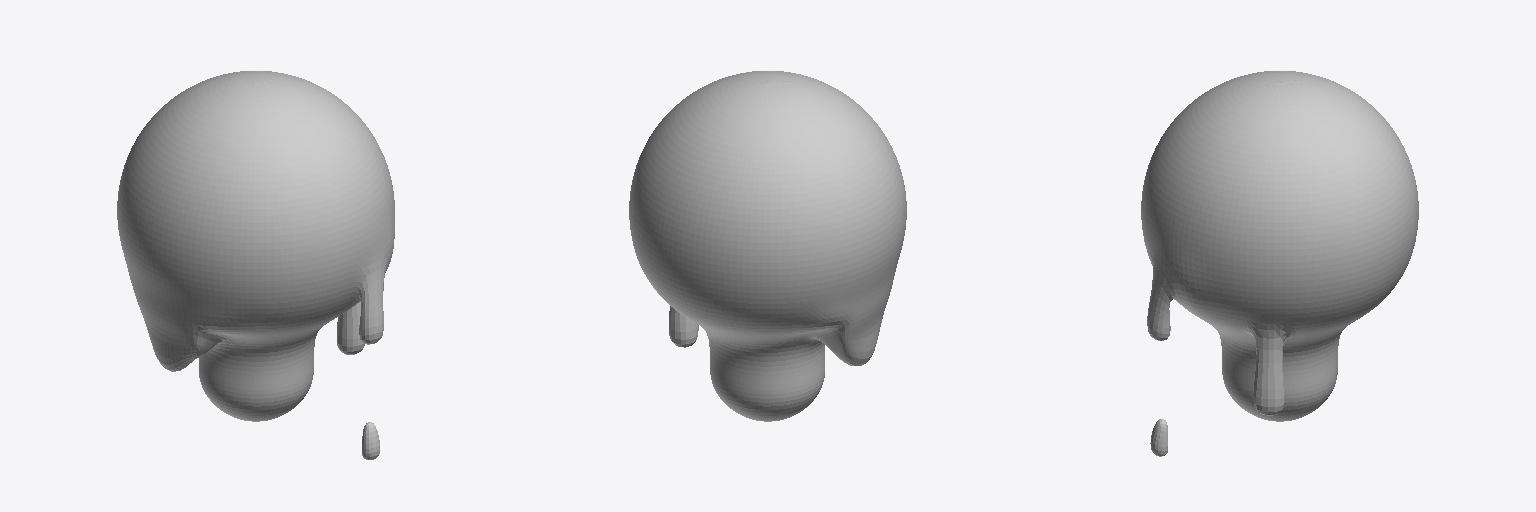
Rendered from PM_Baked_Idea_4-21-20_05.obj.
3 views of the same model, side by side, from view 1: azimuth 30°, elevation 25°; view 2: azimuth 150°, elevation 25°; view 3: azimuth 270°, elevation 25° (orthographic).
Visible parts, largest first — view 1: Idea; view 2: Idea; view 3: Idea.
Part boxes in pixels (bbox=[...]): Idea: bbox=[117, 71, 394, 459]; Idea: bbox=[629, 71, 906, 421]; Idea: bbox=[1141, 71, 1418, 456].
Size of the model in its own units: 1.5 by 2.06 by 1.5.